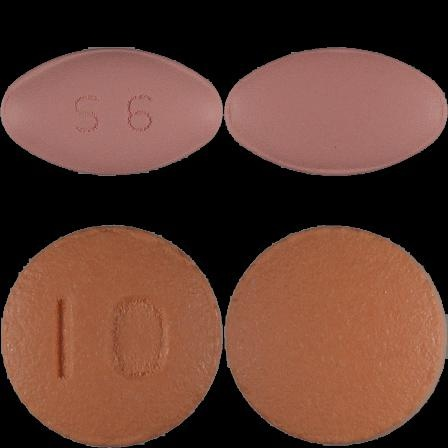60760-006: (0, 0, 224, 224)
